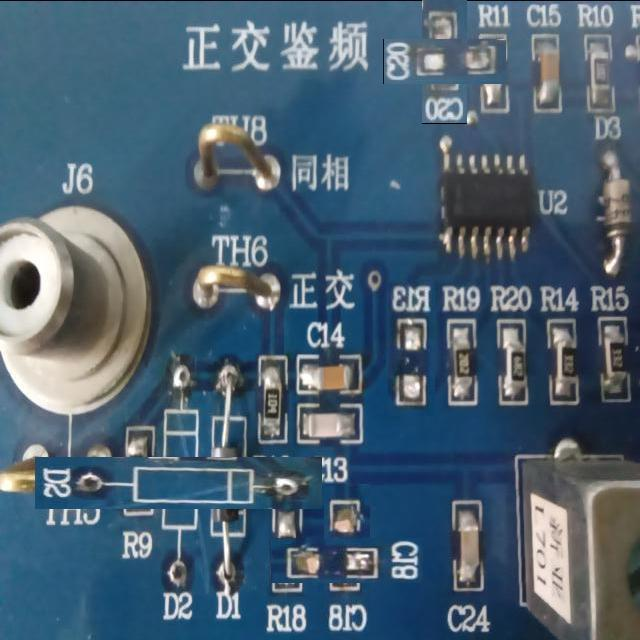miss_welding: (93, 398, 263, 568), (298, 511, 396, 610), (402, 20, 487, 104), (388, 280, 435, 416)
